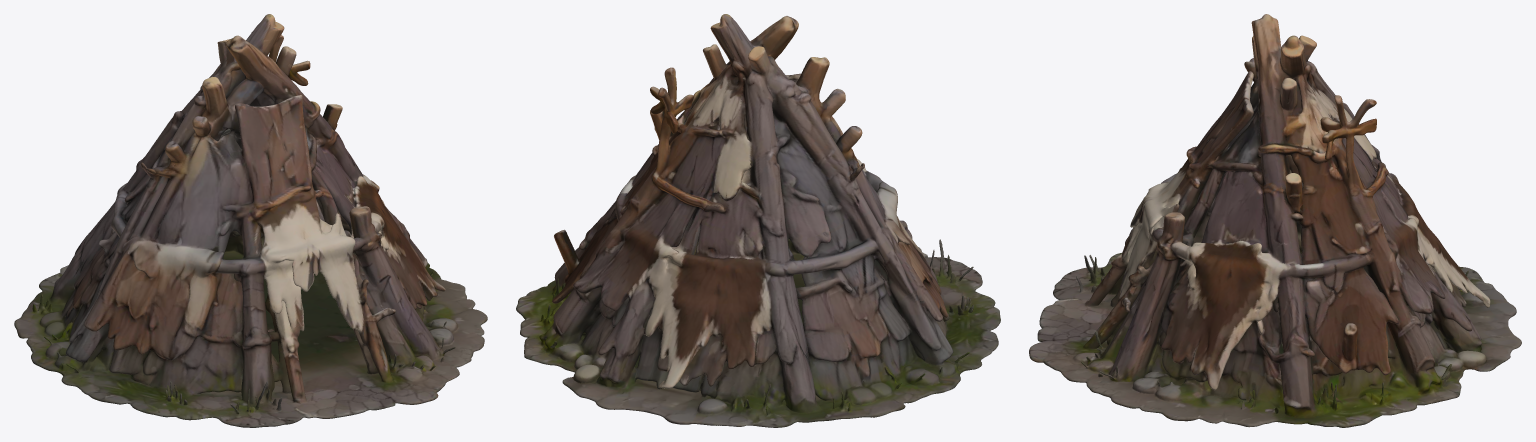
The model's file is capitolio.glb.
3 views of the same model, side by side, from view 1: azimuth 30°, elevation 25°; view 2: azimuth 150°, elevation 25°; view 3: azimuth 270°, elevation 25° (orthographic). The views are drawn at different scales.
Parts seen in each view (by area): view 1: tripo_node_37734ca7-97d7-4140-b5b7-d9b81efcbd37; view 2: tripo_node_37734ca7-97d7-4140-b5b7-d9b81efcbd37; view 3: tripo_node_37734ca7-97d7-4140-b5b7-d9b81efcbd37.
Part boxes in pixels (x1,y1,x2,y2): tripo_node_37734ca7-97d7-4140-b5b7-d9b81efcbd37: [14, 14, 487, 427]; tripo_node_37734ca7-97d7-4140-b5b7-d9b81efcbd37: [516, 14, 1000, 427]; tripo_node_37734ca7-97d7-4140-b5b7-d9b81efcbd37: [1029, 14, 1521, 427].
Bounding box in the file's own units: 0.9601 × 0.7174 × 1.
1 material, 1 textured.
